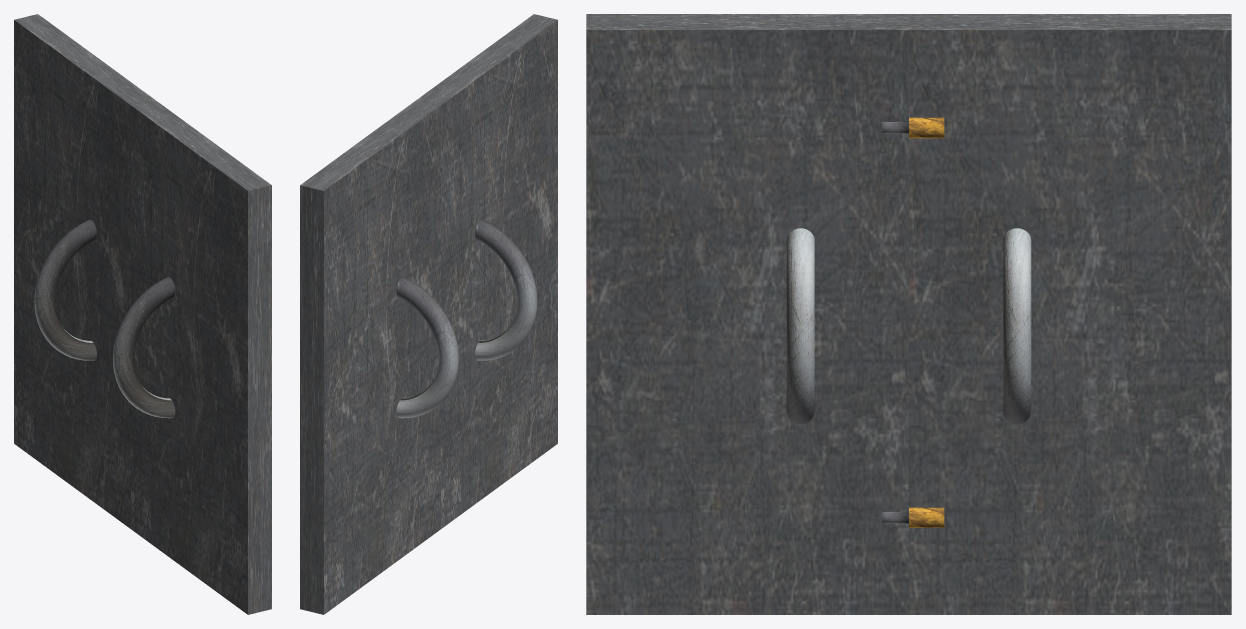
The model's file is DOOR-2.fbx.
3 renders of one model, left to right at view 1: azimuth 30°, elevation 25°; view 2: azimuth 150°, elevation 25°; view 3: azimuth 270°, elevation 25°, orthographic. The views are drawn at different scales.
Parts seen in each view (by area): view 1: polySurface19, polySurface20; view 2: polySurface20, polySurface19; view 3: polySurface20, polySurface19.
Boxes of the visible parts, box(x1,y1,x2,y2) form: polySurface19: box(113, 99, 271, 614); polySurface20: box(14, 14, 154, 528); polySurface20: box(300, 99, 458, 614); polySurface19: box(417, 14, 557, 528); polySurface20: box(909, 14, 1231, 614); polySurface19: box(586, 14, 908, 614).
Size of the model in its own units: 1.01 by 3 by 3.
Materials: 3 (3 with a texture image).
